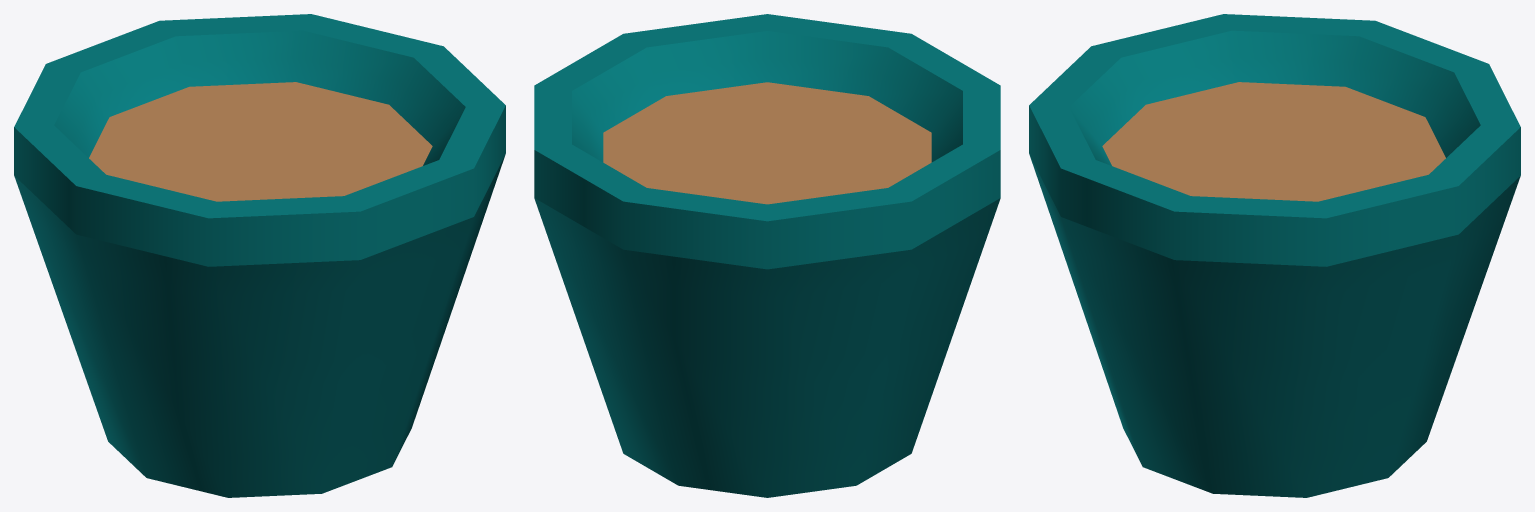
Rendered from PlantPot_5_C.fbx.
3 renders of one model, left to right at view 1: azimuth 30°, elevation 25°; view 2: azimuth 150°, elevation 25°; view 3: azimuth 270°, elevation 25°, orthographic.
Parts seen in each view (by area): view 1: PlantPot_5_C; view 2: PlantPot_5_C; view 3: PlantPot_5_C.
Boxes of the visible parts, bbox=[...] form: PlantPot_5_C: bbox=[14, 14, 505, 497]; PlantPot_5_C: bbox=[534, 14, 1000, 497]; PlantPot_5_C: bbox=[1029, 14, 1520, 497].
Size of the model in its own units: 18.93 by 13.76 by 19.24.
